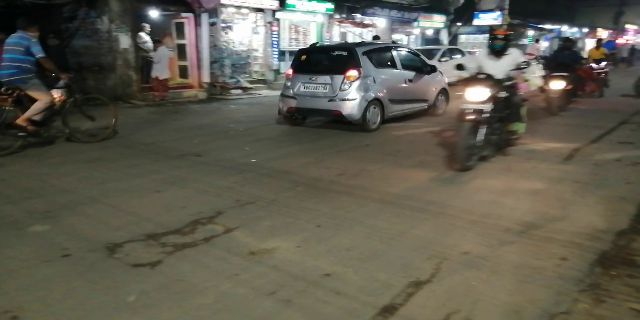Car: (279, 39, 449, 127)
Cycle: (1, 21, 118, 152)
Motorbike: (446, 32, 531, 171)
